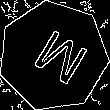M_SW: (21, 23, 86, 90)
